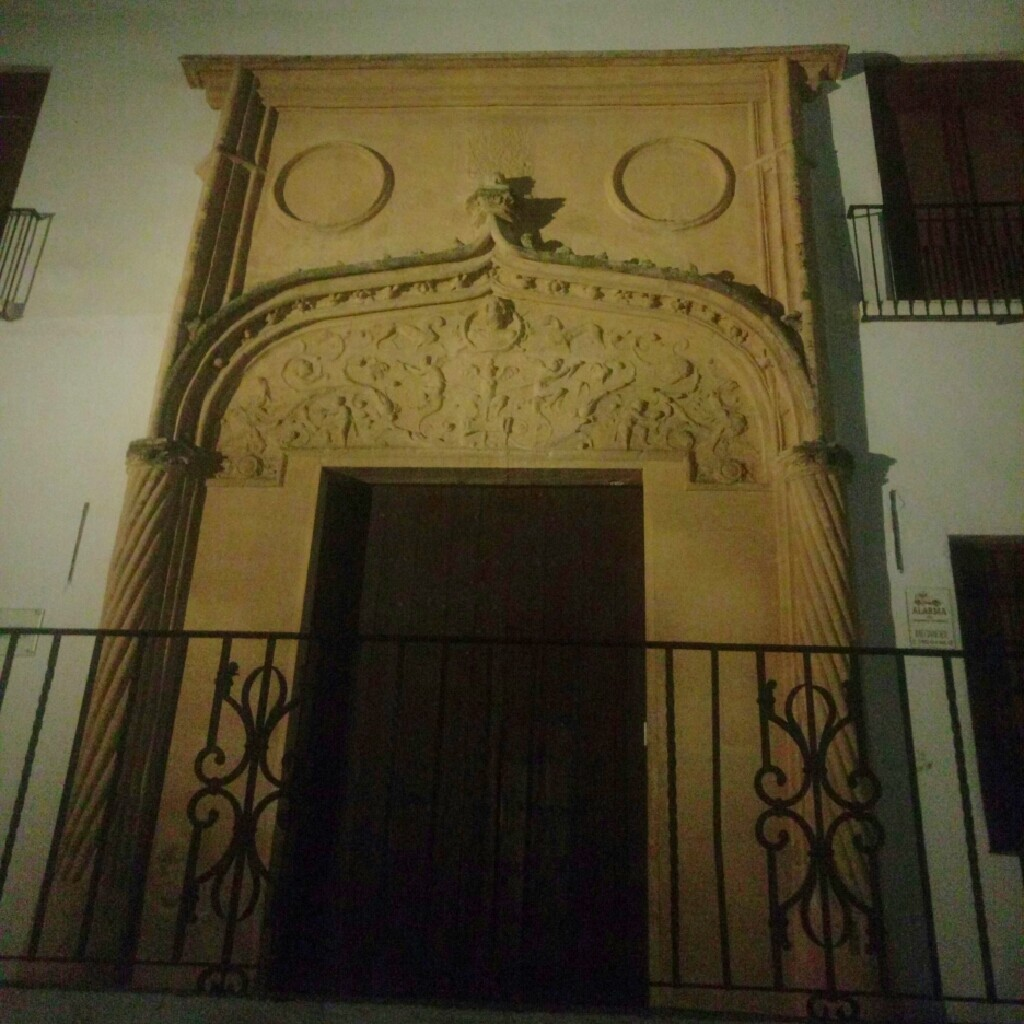arco-conopial: (142, 215, 816, 390)
